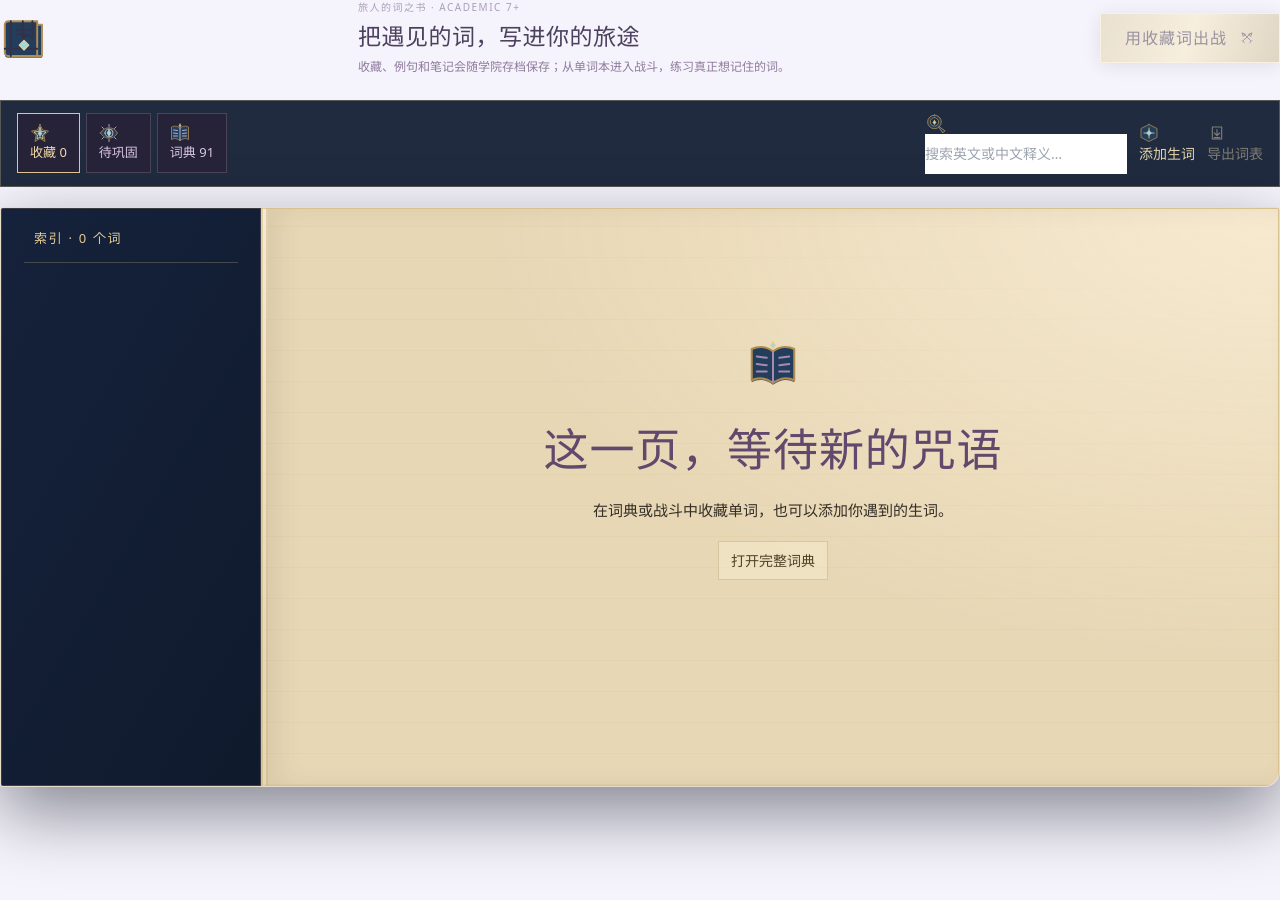
Test: adds a personal word, preserves a note on reopen and starts the saved-word battle
Later steps or results of the test are not shown.
Click the button "添加生词" at (1167, 143), box [1139,112,1195,174]
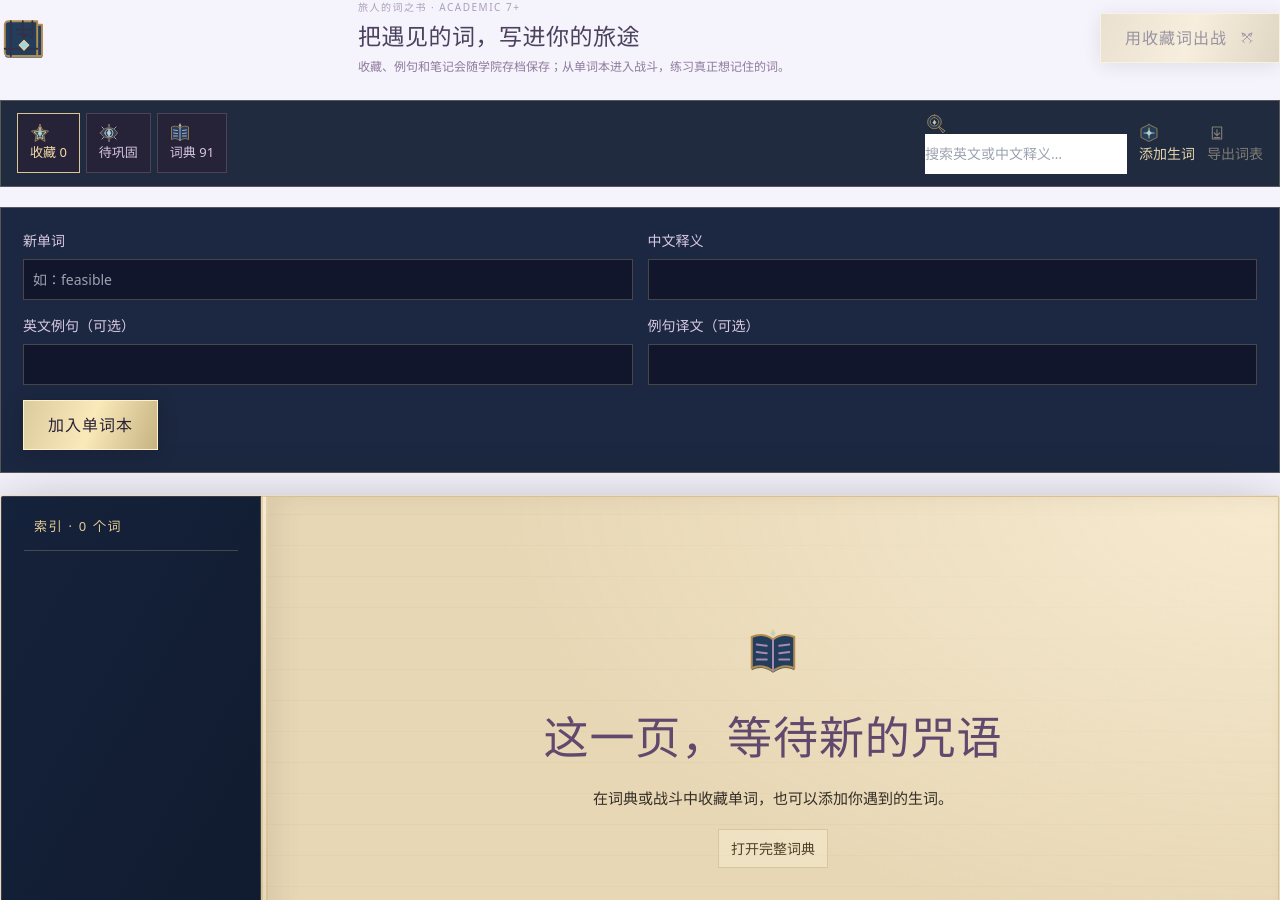
Type "feasible" into the field labelled "新单词" at (328, 279), box [23,258,632,300]
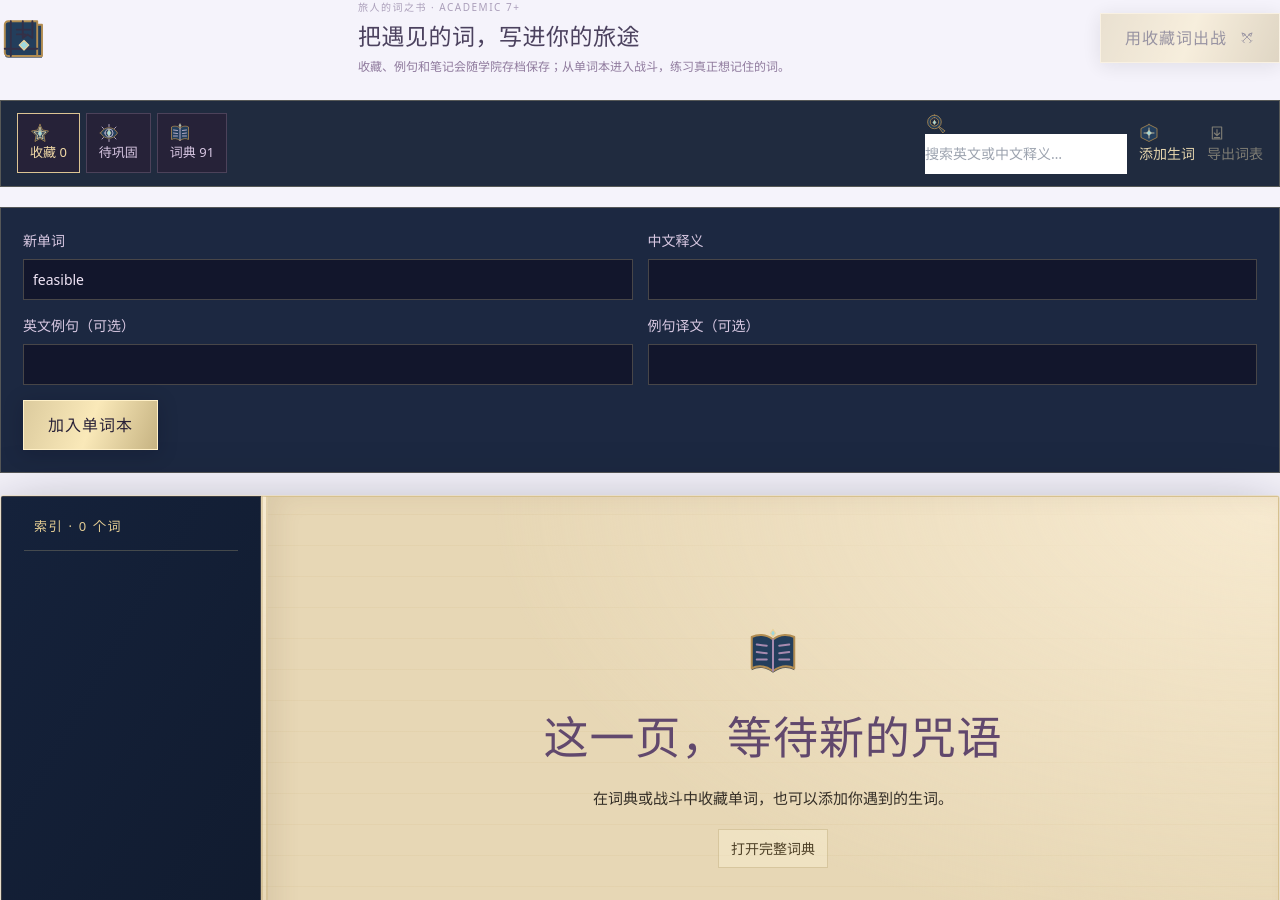
Type "可行的" into the field labelled "中文释义" at (952, 279), box [648,258,1257,300]
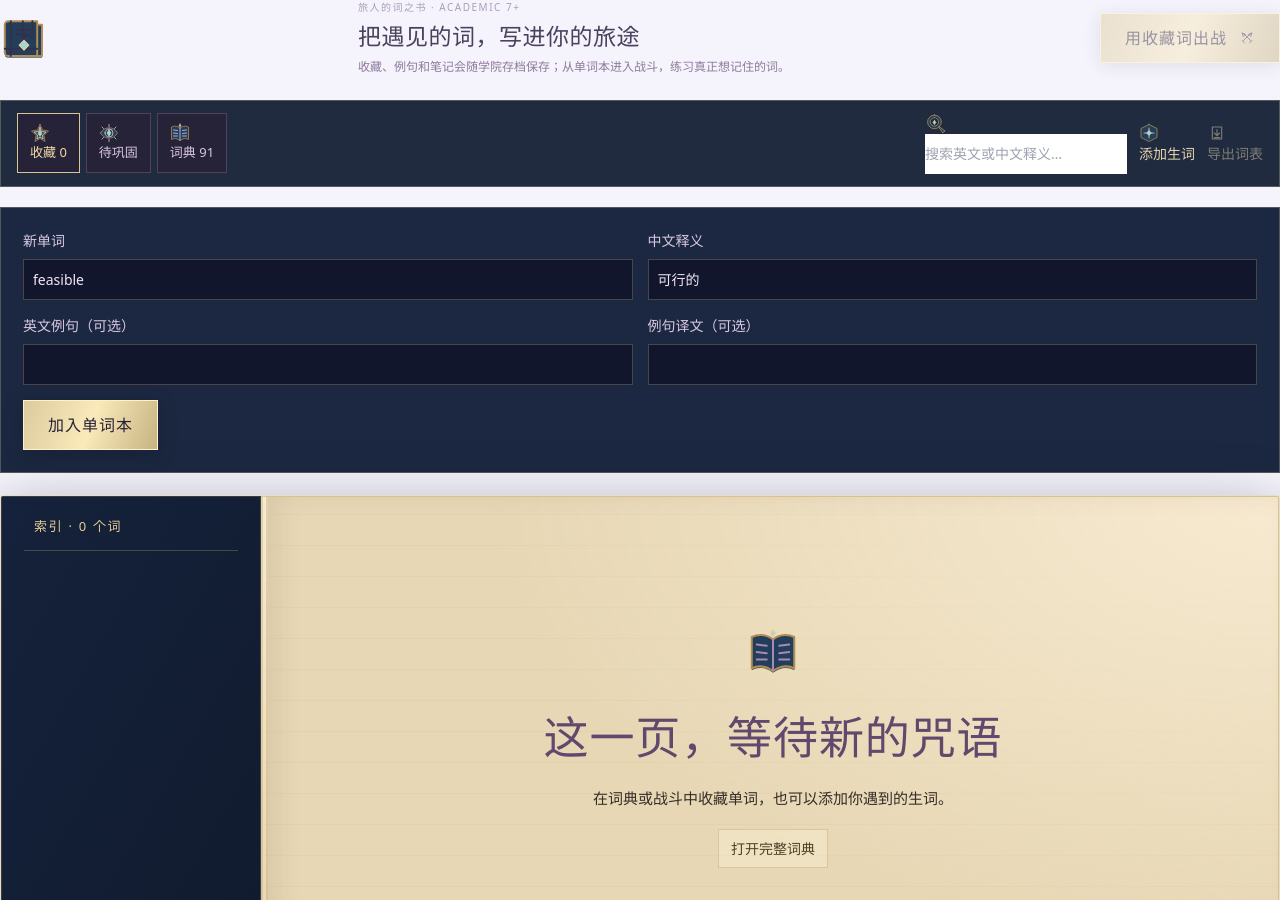
Click the button "加入单词本" at (90, 424), box [23,400,158,450]
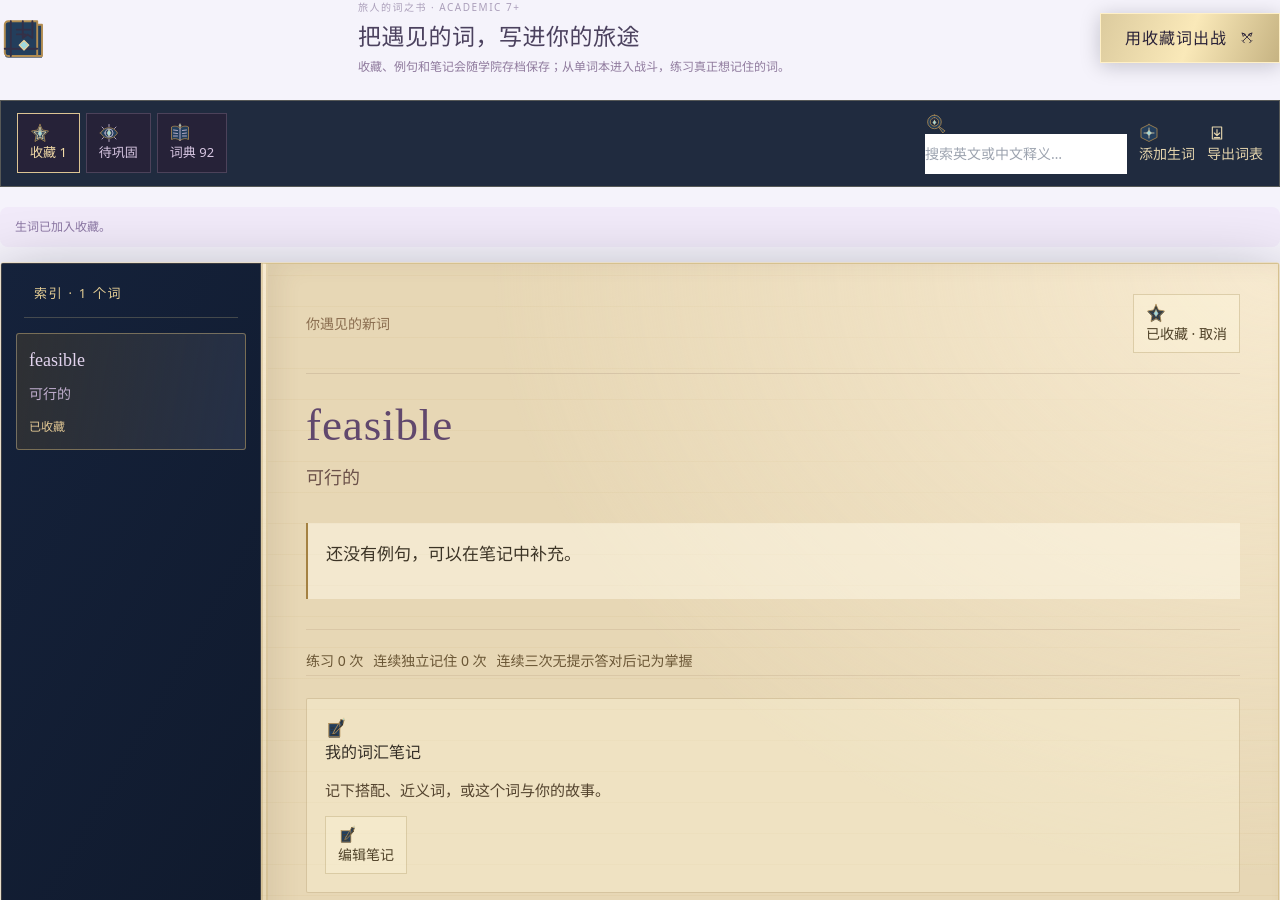
Now the heading "feasible" is shown, box [306,400,453,450]
